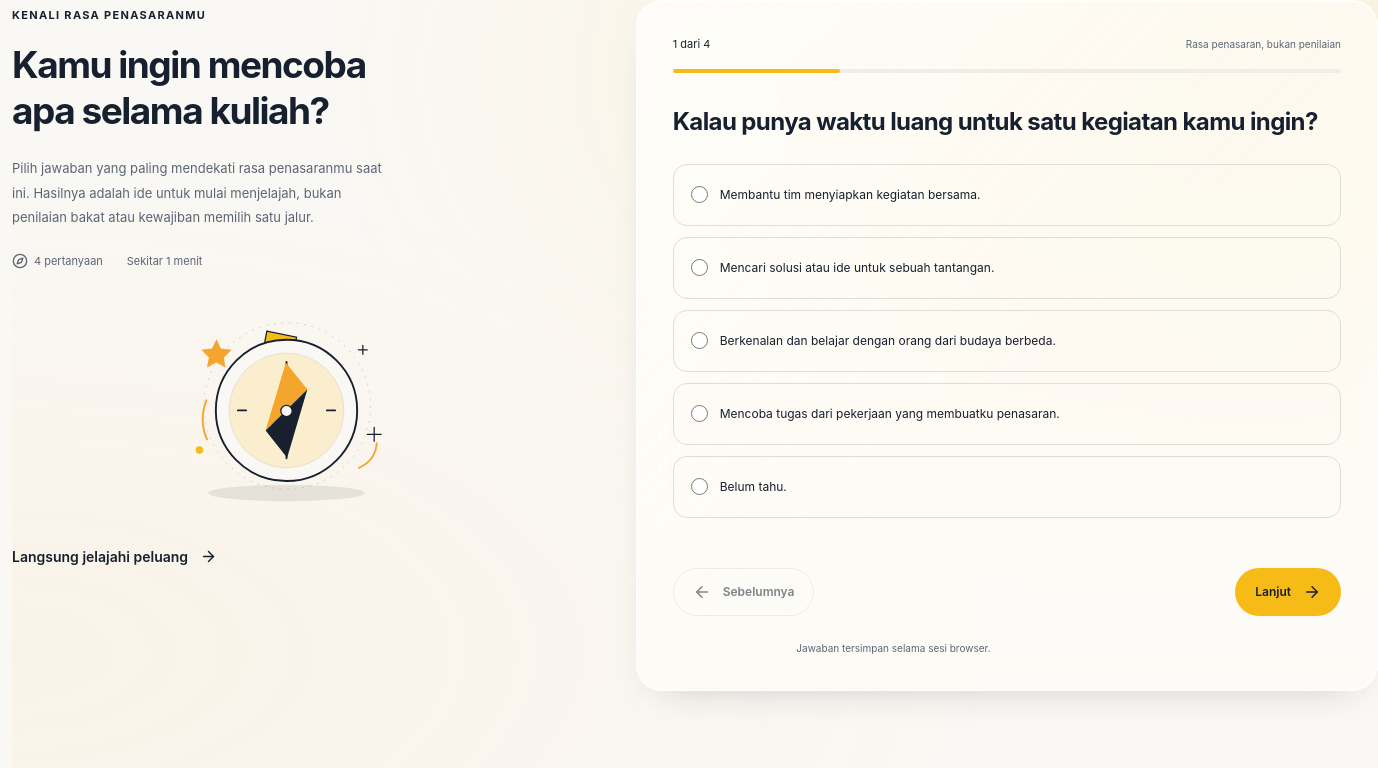
Test: quiz component and session behavior › asks for an answer before advancing and persists it after selection
Click the button "Lanjut". click: (1288,592)
box: [1235,568,1341,616]
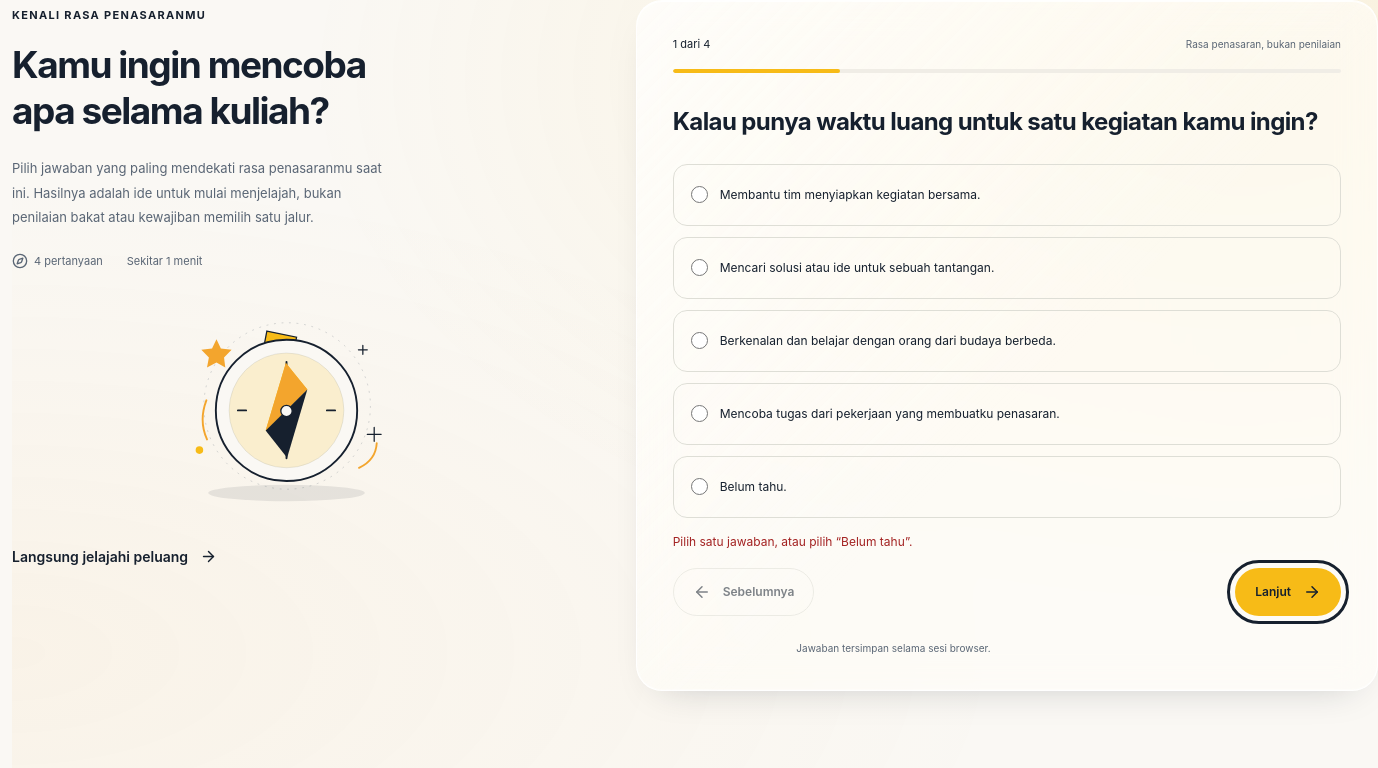
Result: the message shows "Pilih satu jawaban" at [673,534,912,549]
Click the radio button labelled "Belum tahu.". click: (699,487)
box: [691,478,708,495]
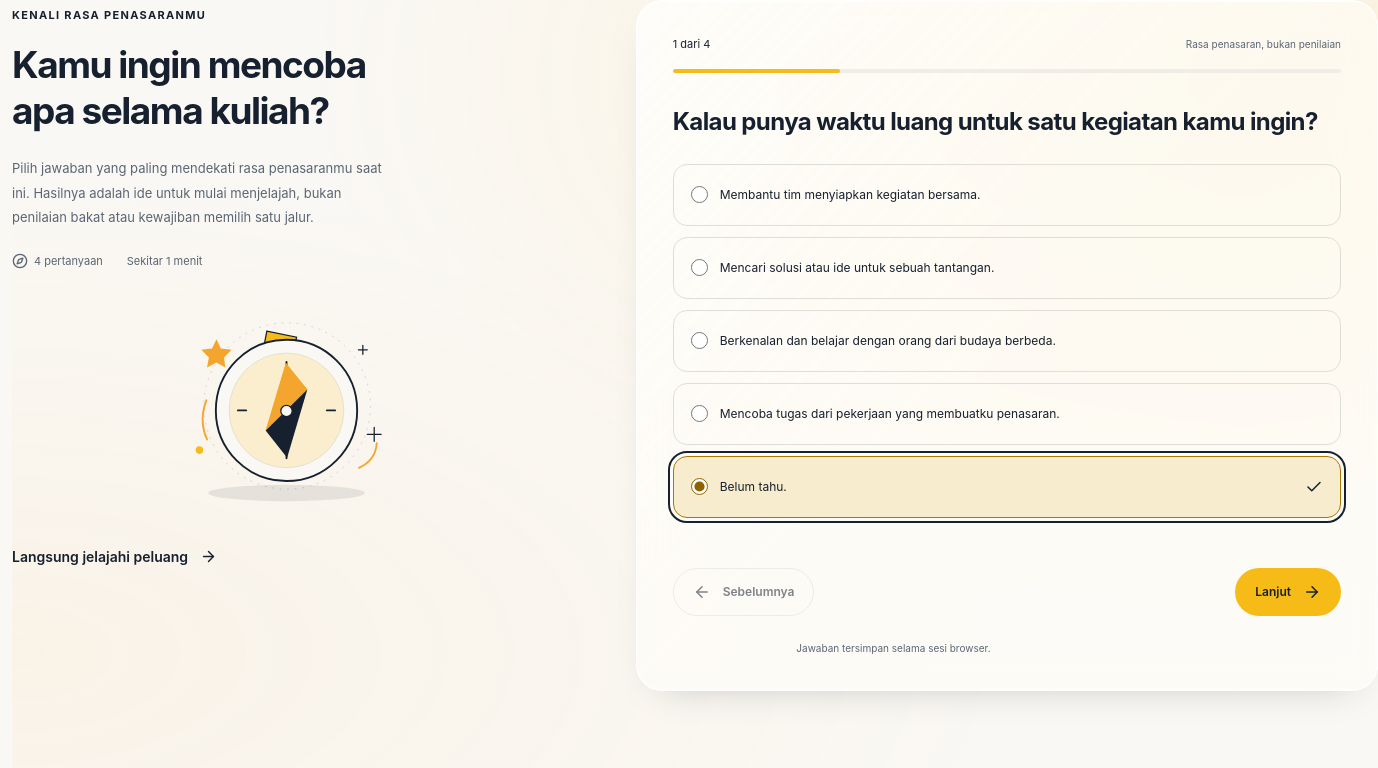
Click the button "Lanjut". click: (1288,592)
box: [1235,568,1341,616]
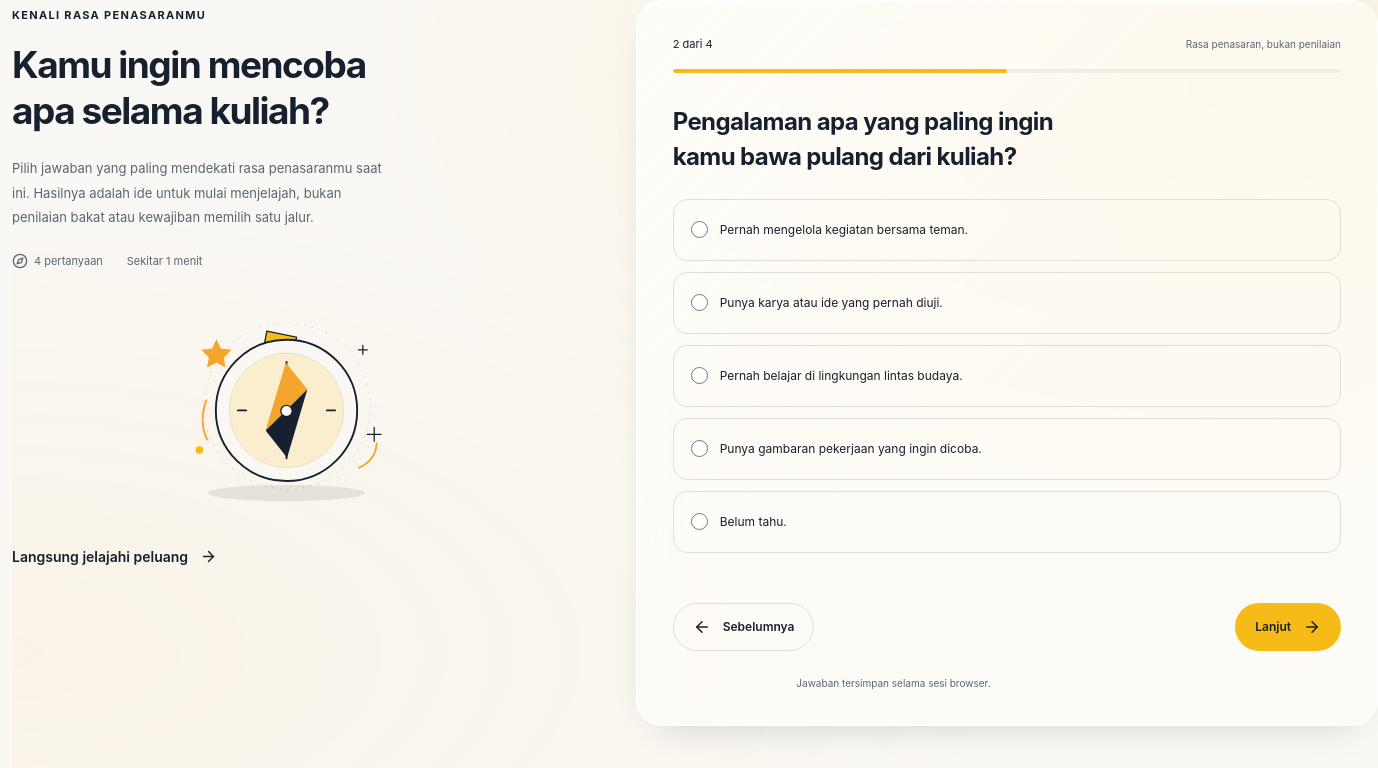
Result: the text "2 dari 4" is shown at [673,35,712,53]
